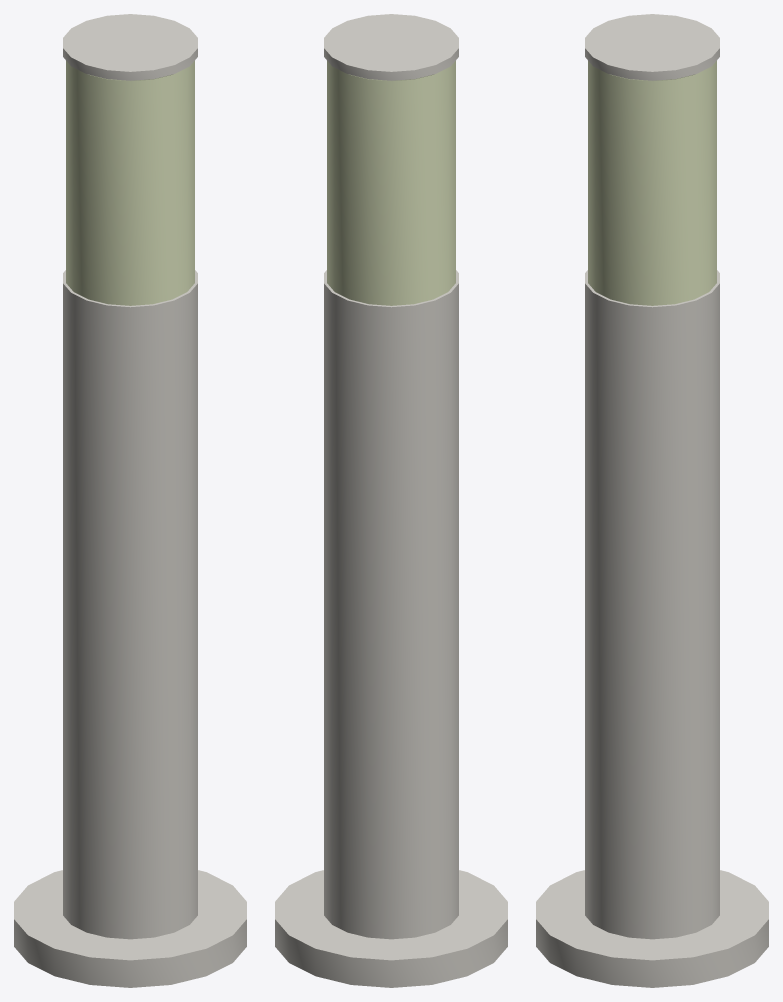
Rendered from gardenlight01.obj.
3 views of the same model, side by side, from view 1: azimuth 30°, elevation 25°; view 2: azimuth 150°, elevation 25°; view 3: azimuth 270°, elevation 25° (orthographic).
Parts seen in each view (by area): view 1: st_b01, st_g01; view 2: st_b01, st_g01; view 3: st_b01, st_g01.
Boxes of the visible parts, x1,y1,x2,y2 form: st_b01: (14,14,246,987); st_g01: (66,61,194,305); st_b01: (275,14,507,987); st_g01: (327,61,455,305); st_b01: (536,14,768,987); st_g01: (588,61,716,305).
Size of the model in its own units: 1.55 by 6.48 by 1.53.
